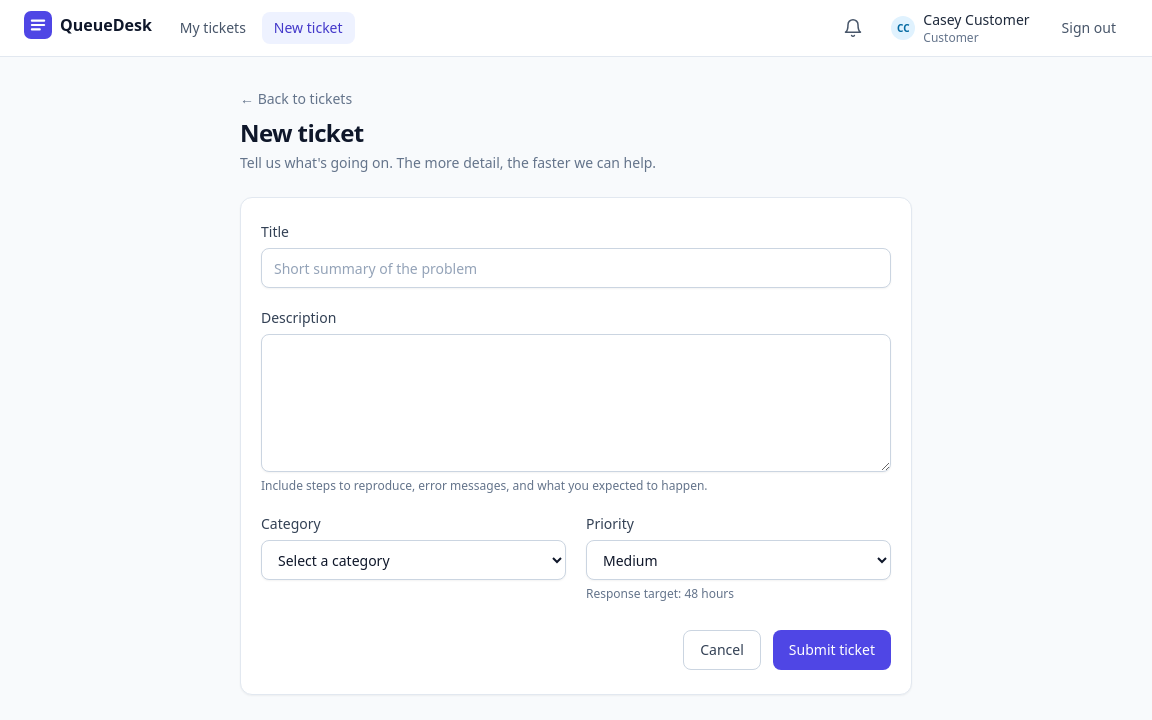
Test: create ticket page › creates a ticket and opens it
Type "Export is broken" into the field labelled "Title" at (576, 268), box [261,248,891,288]
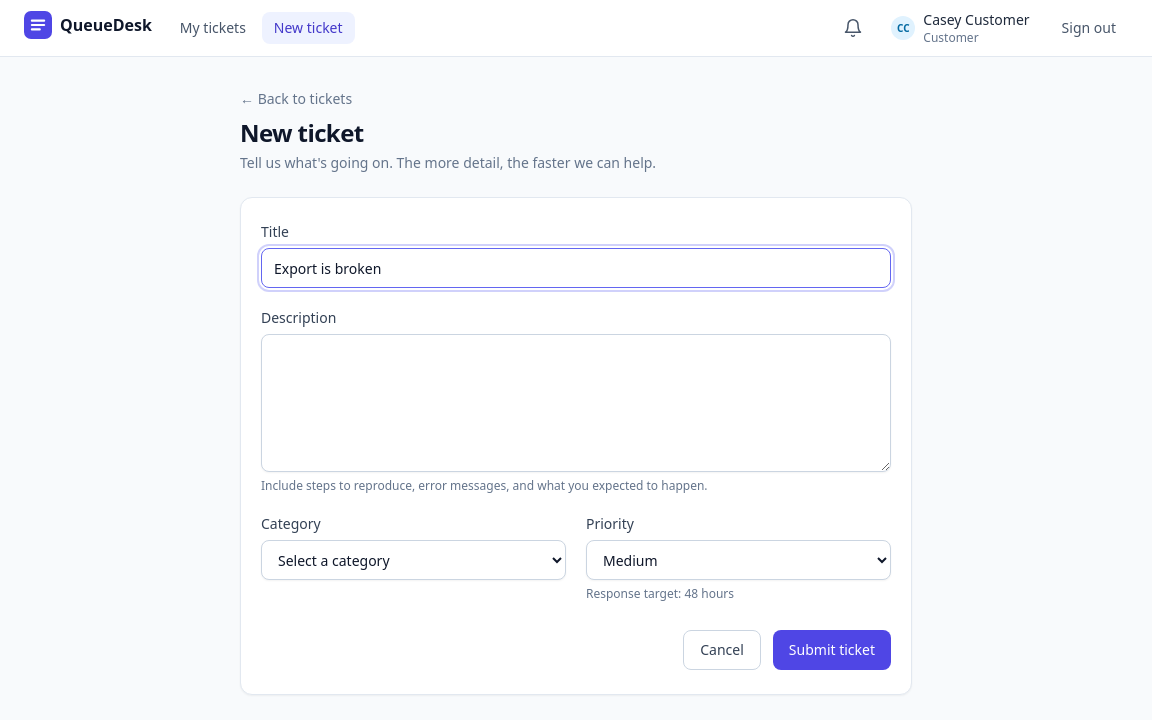
Type "CSV export returns an empty file." into the text box labelled "Description" at (576, 403), box [261,334,891,472]
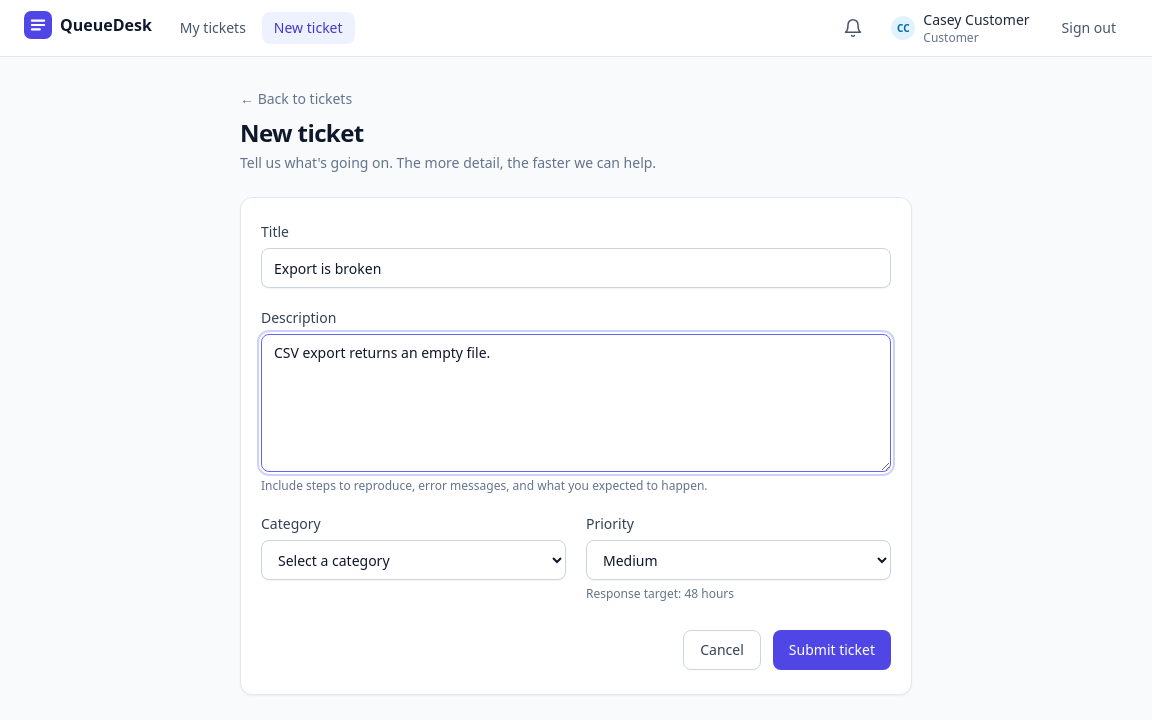
Select "Technical" in the dropdown labelled "Category" at (414, 560), box [261,540,566,580]
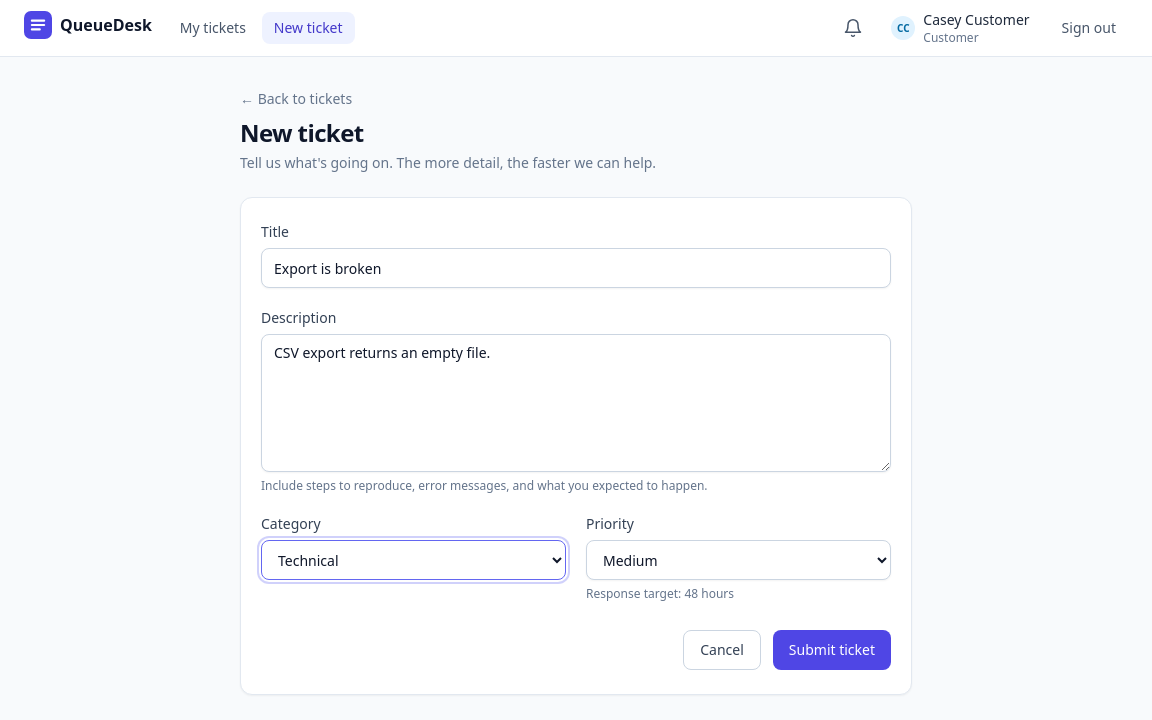
Select "High" in the dropdown labelled "Priority" at (738, 560), box [586,540,891,580]
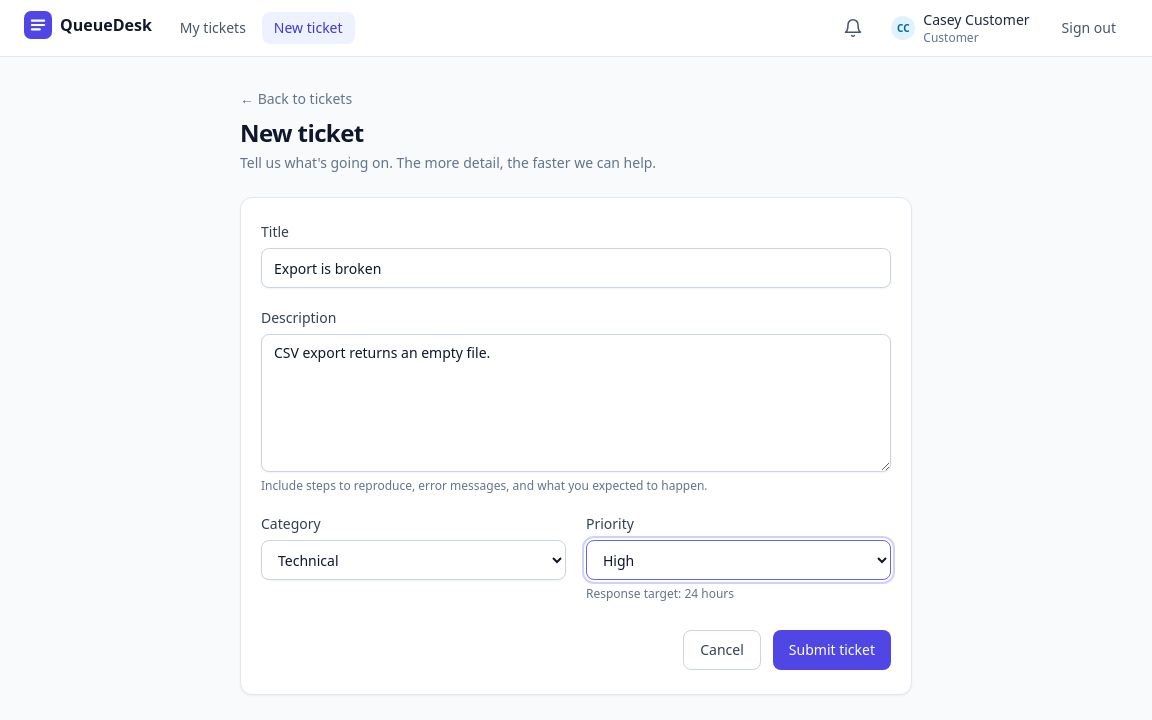
expect the text "Response target: 24 hours" is shown: met, box [586,585,734,602]
Click the button "Submit ticket" at (832, 650), box [773,630,891,670]
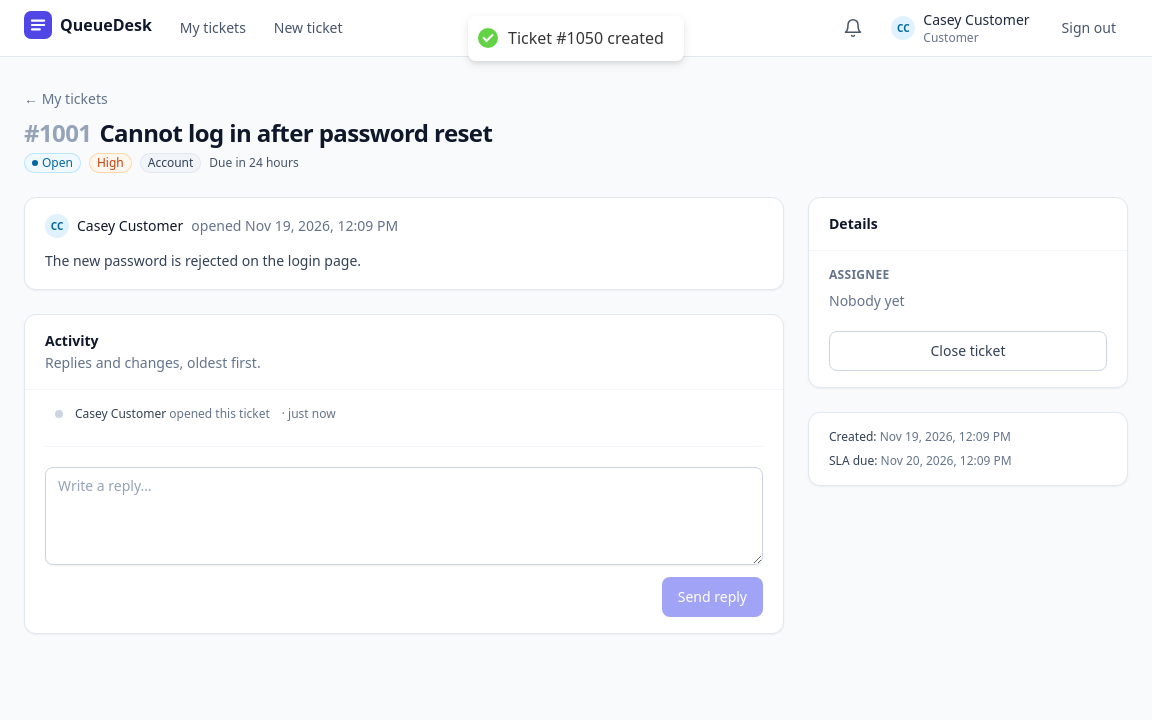
expect the text "Ticket #1050 created" is shown: met, box [508,28,664,49]
